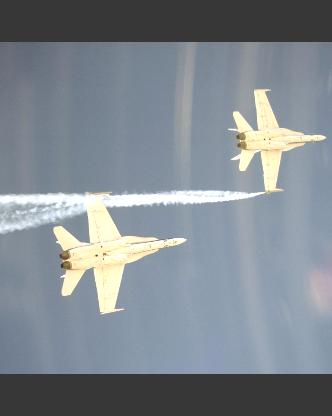F15: (52, 192, 186, 314), (226, 90, 324, 194)
